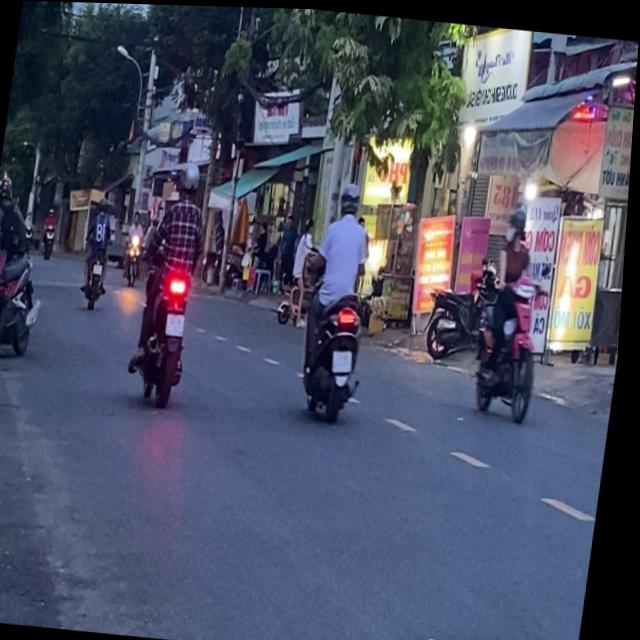helmet: (508, 201, 533, 240), (340, 177, 366, 214), (180, 159, 204, 196)
licenseplate: (295, 173, 389, 421), (127, 154, 217, 406), (467, 197, 563, 421)
nohelmet: (335, 346, 357, 369), (169, 311, 189, 333)
